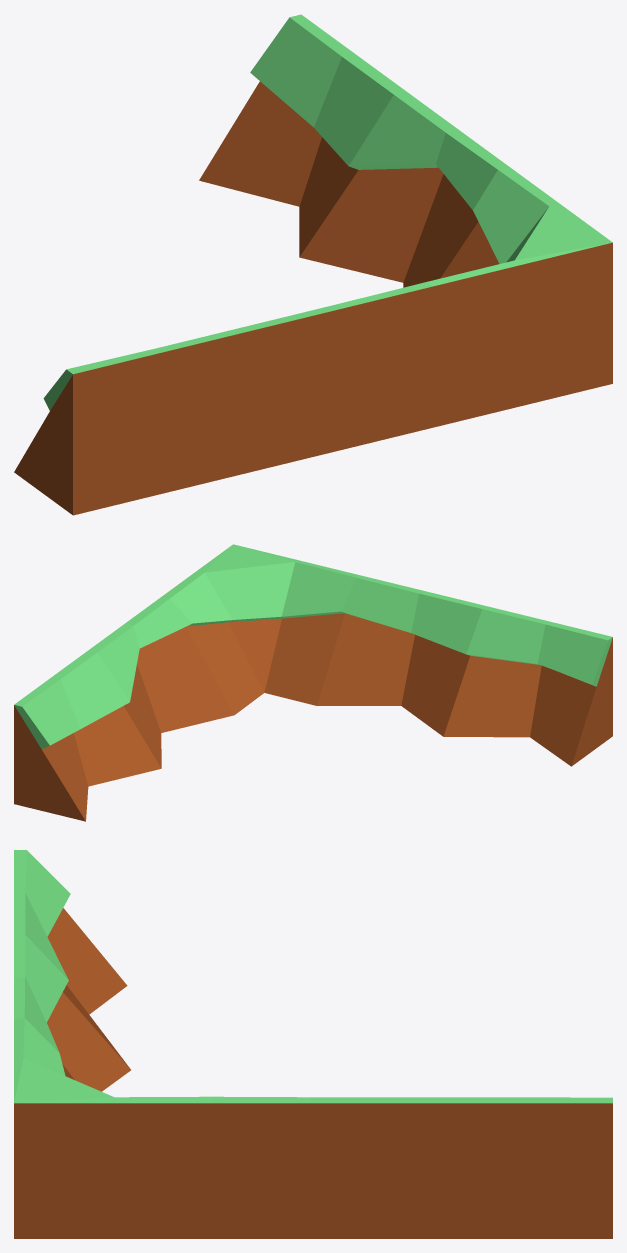
Rendered from cornerInt_border.fbx.
3 views of the same model, one above another, from view 1: azimuth 30°, elevation 25°; view 2: azimuth 150°, elevation 25°; view 3: azimuth 270°, elevation 25° (orthographic). The views are drawn at different scales.
Visible parts, largest first — view 1: cornerInt_border; view 2: cornerInt_border; view 3: cornerInt_border.
Part boxes in pixels (box(x1,y1,x2,y2)): cornerInt_border: box(14, 14, 612, 515); cornerInt_border: box(14, 544, 612, 821); cornerInt_border: box(14, 850, 612, 1238).
Size of the model in its own units: 200 by 50.45 by 200.
